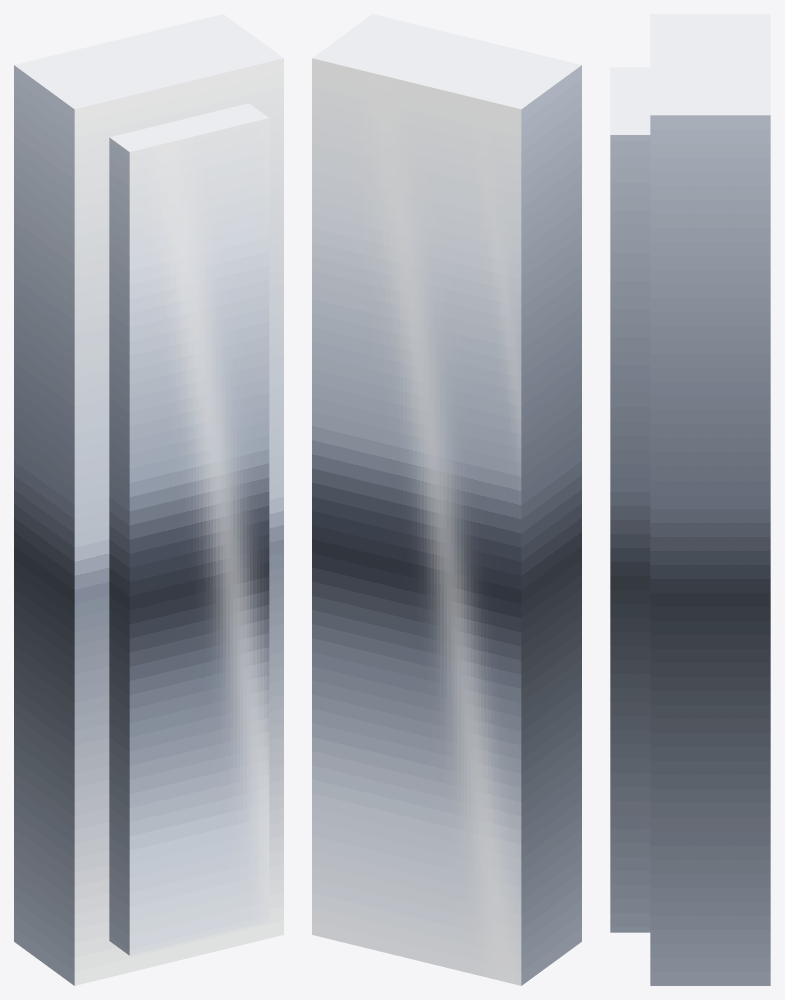
3 views of the same model, side by side, from view 1: azimuth 30°, elevation 25°; view 2: azimuth 150°, elevation 25°; view 3: azimuth 270°, elevation 25° (orthographic).
Visible parts, largest first — view 1: Letter I; view 2: Letter I; view 3: Letter I.
Part boxes in pixels (x1,y1,x2,y2): Letter I: (14,14,283,985); Letter I: (312,14,581,985); Letter I: (610,14,770,985).
Size of the model in its own units: 0.375 by 1.5 by 0.25.
Materials: 1 (1 with a texture image).
